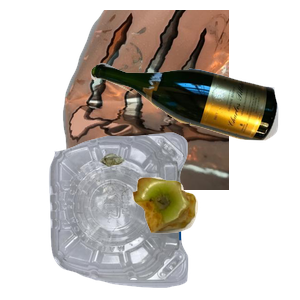glass: (88, 60, 300, 193)
metal: (60, 10, 300, 190)
plastic: (46, 130, 227, 300)
trash: (130, 175, 300, 300)
